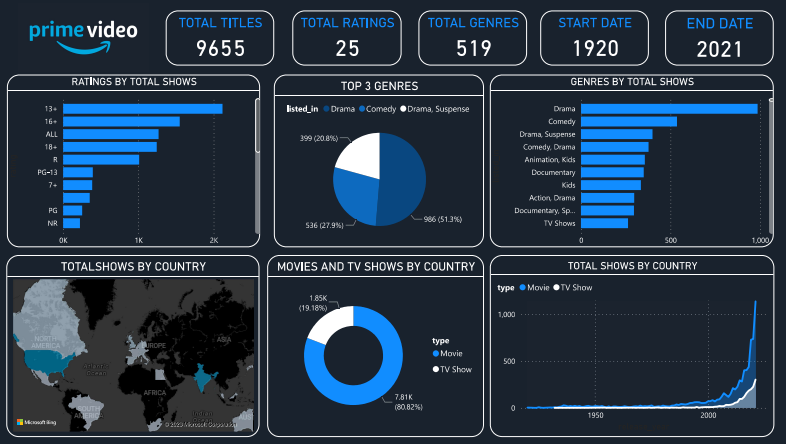

The page's visual inventory and layout, read from the dashboard file:
{"tool":"powerbi","page":{"name":"Page 1","canvas":[1280,720],"ordinal":0},"visuals":[{"type":"filledMap","title":"TOTALSHOWS BY COUNTRY","fields":{"Category":["amazon_prime_titles.country"]},"box":[11.3,413.9,411,294.8],"z":0},{"type":"donutChart","title":"MOVIES AND TV SHOWS BY COUNTRY","fields":{"Category":["amazon_prime_titles.type"],"Y":["Count(amazon_prime_titles.show_id)"]},"box":[435.1,413.9,351.5,294.8],"z":1000},{"type":"areaChart","title":"TOTAL SHOWS BY COUNTRY","fields":{"Category":["amazon_prime_titles.release_year"],"Y":["Count(amazon_prime_titles.show_id)"],"Series":["amazon_prime_titles.type"]},"box":[796.5,413.9,462,294.8],"z":2000},{"type":"image","box":[0,0,270.1,120.8],"z":3000},{"type":"barChart","title":"RATINGS BY TOTAL SHOWS","fields":{"Category":["amazon_prime_titles.rating"],"Y":["Count(amazon_prime_titles.show_id)"]},"box":[11.7,120.8,411,280.2],"z":4000},{"type":"barChart","title":"GENRES BY TOTAL SHOWS","fields":{"Y":["Count(amazon_prime_titles.show_id)"],"Category":["amazon_prime_titles.listed_in"]},"box":[796.9,120.8,461.3,280.2],"z":5000},{"type":"card","title":"TOTAL TITLES","fields":{"Values":["Count(amazon_prime_titles.title)"]},"box":[270.1,16.8,176.1,88.9],"z":6000},{"type":"card","title":"TOTAL RATINGS","fields":{"Values":["Count(amazon_prime_titles.rating)"]},"box":[476.4,16.8,176.1,88.9],"z":7000},{"type":"card","title":"TOTAL GENRES","fields":{"Values":["Count(amazon_prime_titles.listed_in)"]},"box":[681.1,16.8,176.1,88.9],"z":8000},{"type":"card","title":"START DATE","fields":{"Values":["Min(amazon_prime_titles.release_year)"]},"box":[879.1,16.8,176.1,88.9],"z":9000},{"type":"card","title":"END DATE","fields":{"Values":["Max(amazon_prime_titles.release_year)"]},"box":[1082,16.8,176.1,88.9],"z":10000},{"type":"pieChart","title":"TOP 3 GENRES","fields":{"Category":["amazon_prime_titles.listed_in"],"Y":["Count(amazon_prime_titles.show_id)"]},"box":[446.2,120.8,340.6,280.2],"z":10001}]}

Visuals, with their boxes in screenshot pixels (x1, y1, x2, y2), scaled from the page's 1280x720 canvas onto the 786x444 screenshot:
"TOTALSHOWS BY COUNTRY" filledMap: l=7, t=255, r=259, b=437
"MOVIES AND TV SHOWS BY COUNTRY" donutChart: l=267, t=255, r=483, b=437
"TOTAL SHOWS BY COUNTRY" areaChart: l=489, t=255, r=773, b=437
image: l=0, t=0, r=166, b=74
"RATINGS BY TOTAL SHOWS" barChart: l=7, t=74, r=260, b=247
"GENRES BY TOTAL SHOWS" barChart: l=489, t=74, r=773, b=247
"TOTAL TITLES" card: l=166, t=10, r=274, b=65
"TOTAL RATINGS" card: l=293, t=10, r=401, b=65
"TOTAL GENRES" card: l=418, t=10, r=526, b=65
"START DATE" card: l=540, t=10, r=648, b=65
"END DATE" card: l=664, t=10, r=773, b=65
"TOP 3 GENRES" pieChart: l=274, t=74, r=483, b=247
